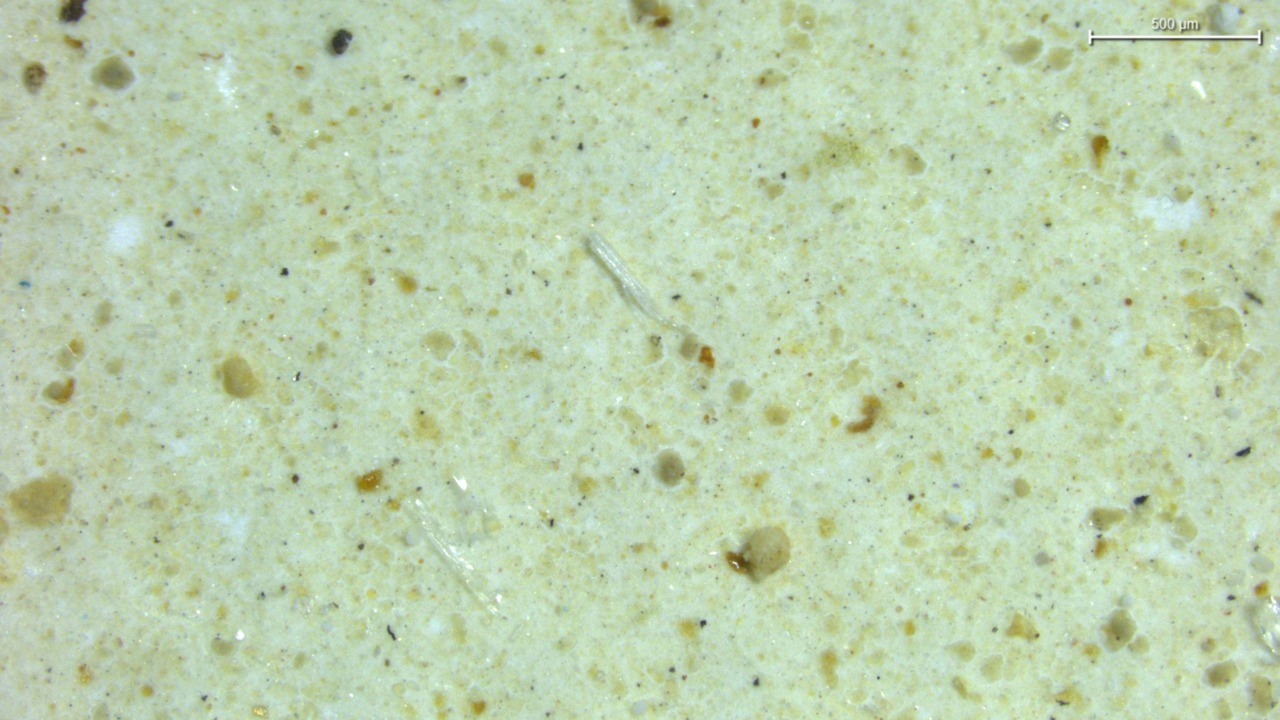microplastic_fragment: (740, 526, 790, 581)
